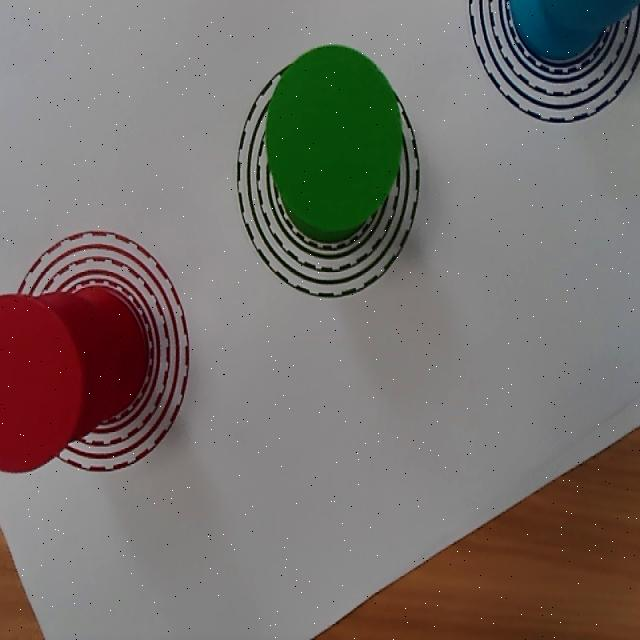g: (267, 44, 403, 232)
